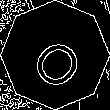O_NE: (22, 22, 88, 88)
